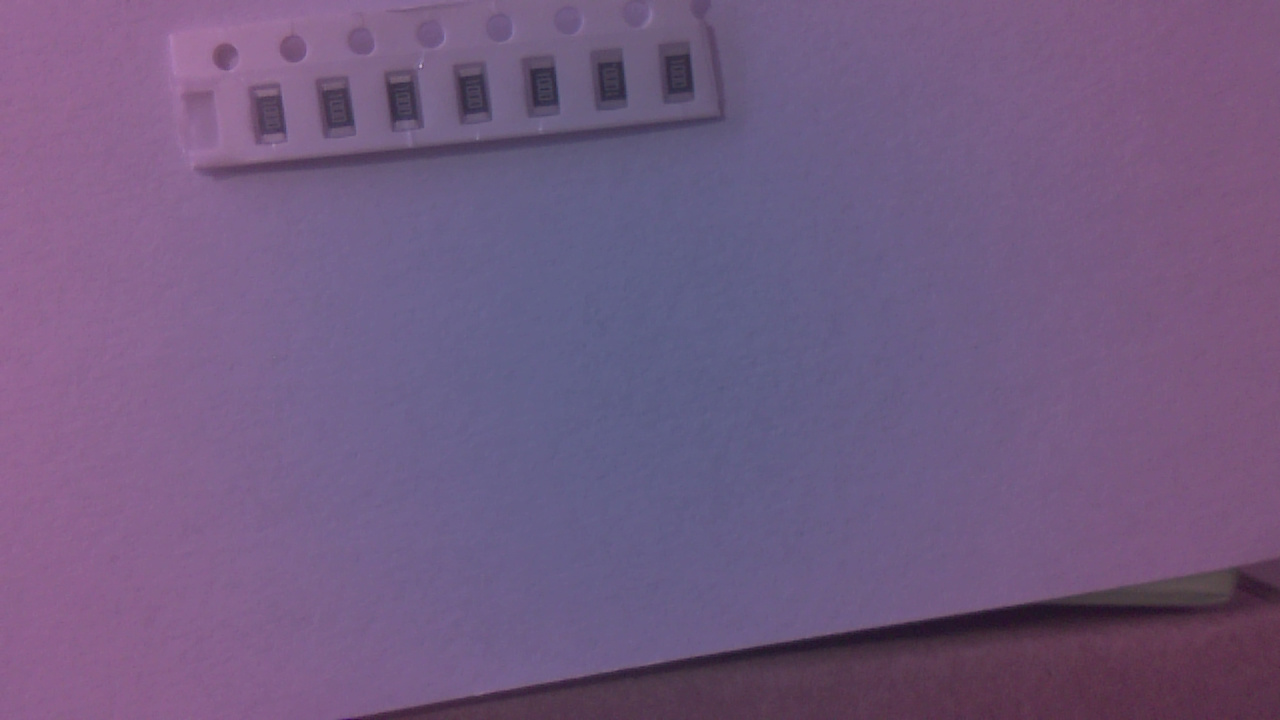Resistor: (320, 82, 364, 146), (256, 89, 297, 152), (596, 54, 637, 116), (527, 57, 568, 119), (664, 50, 704, 111), (392, 75, 430, 138), (460, 69, 497, 132)
